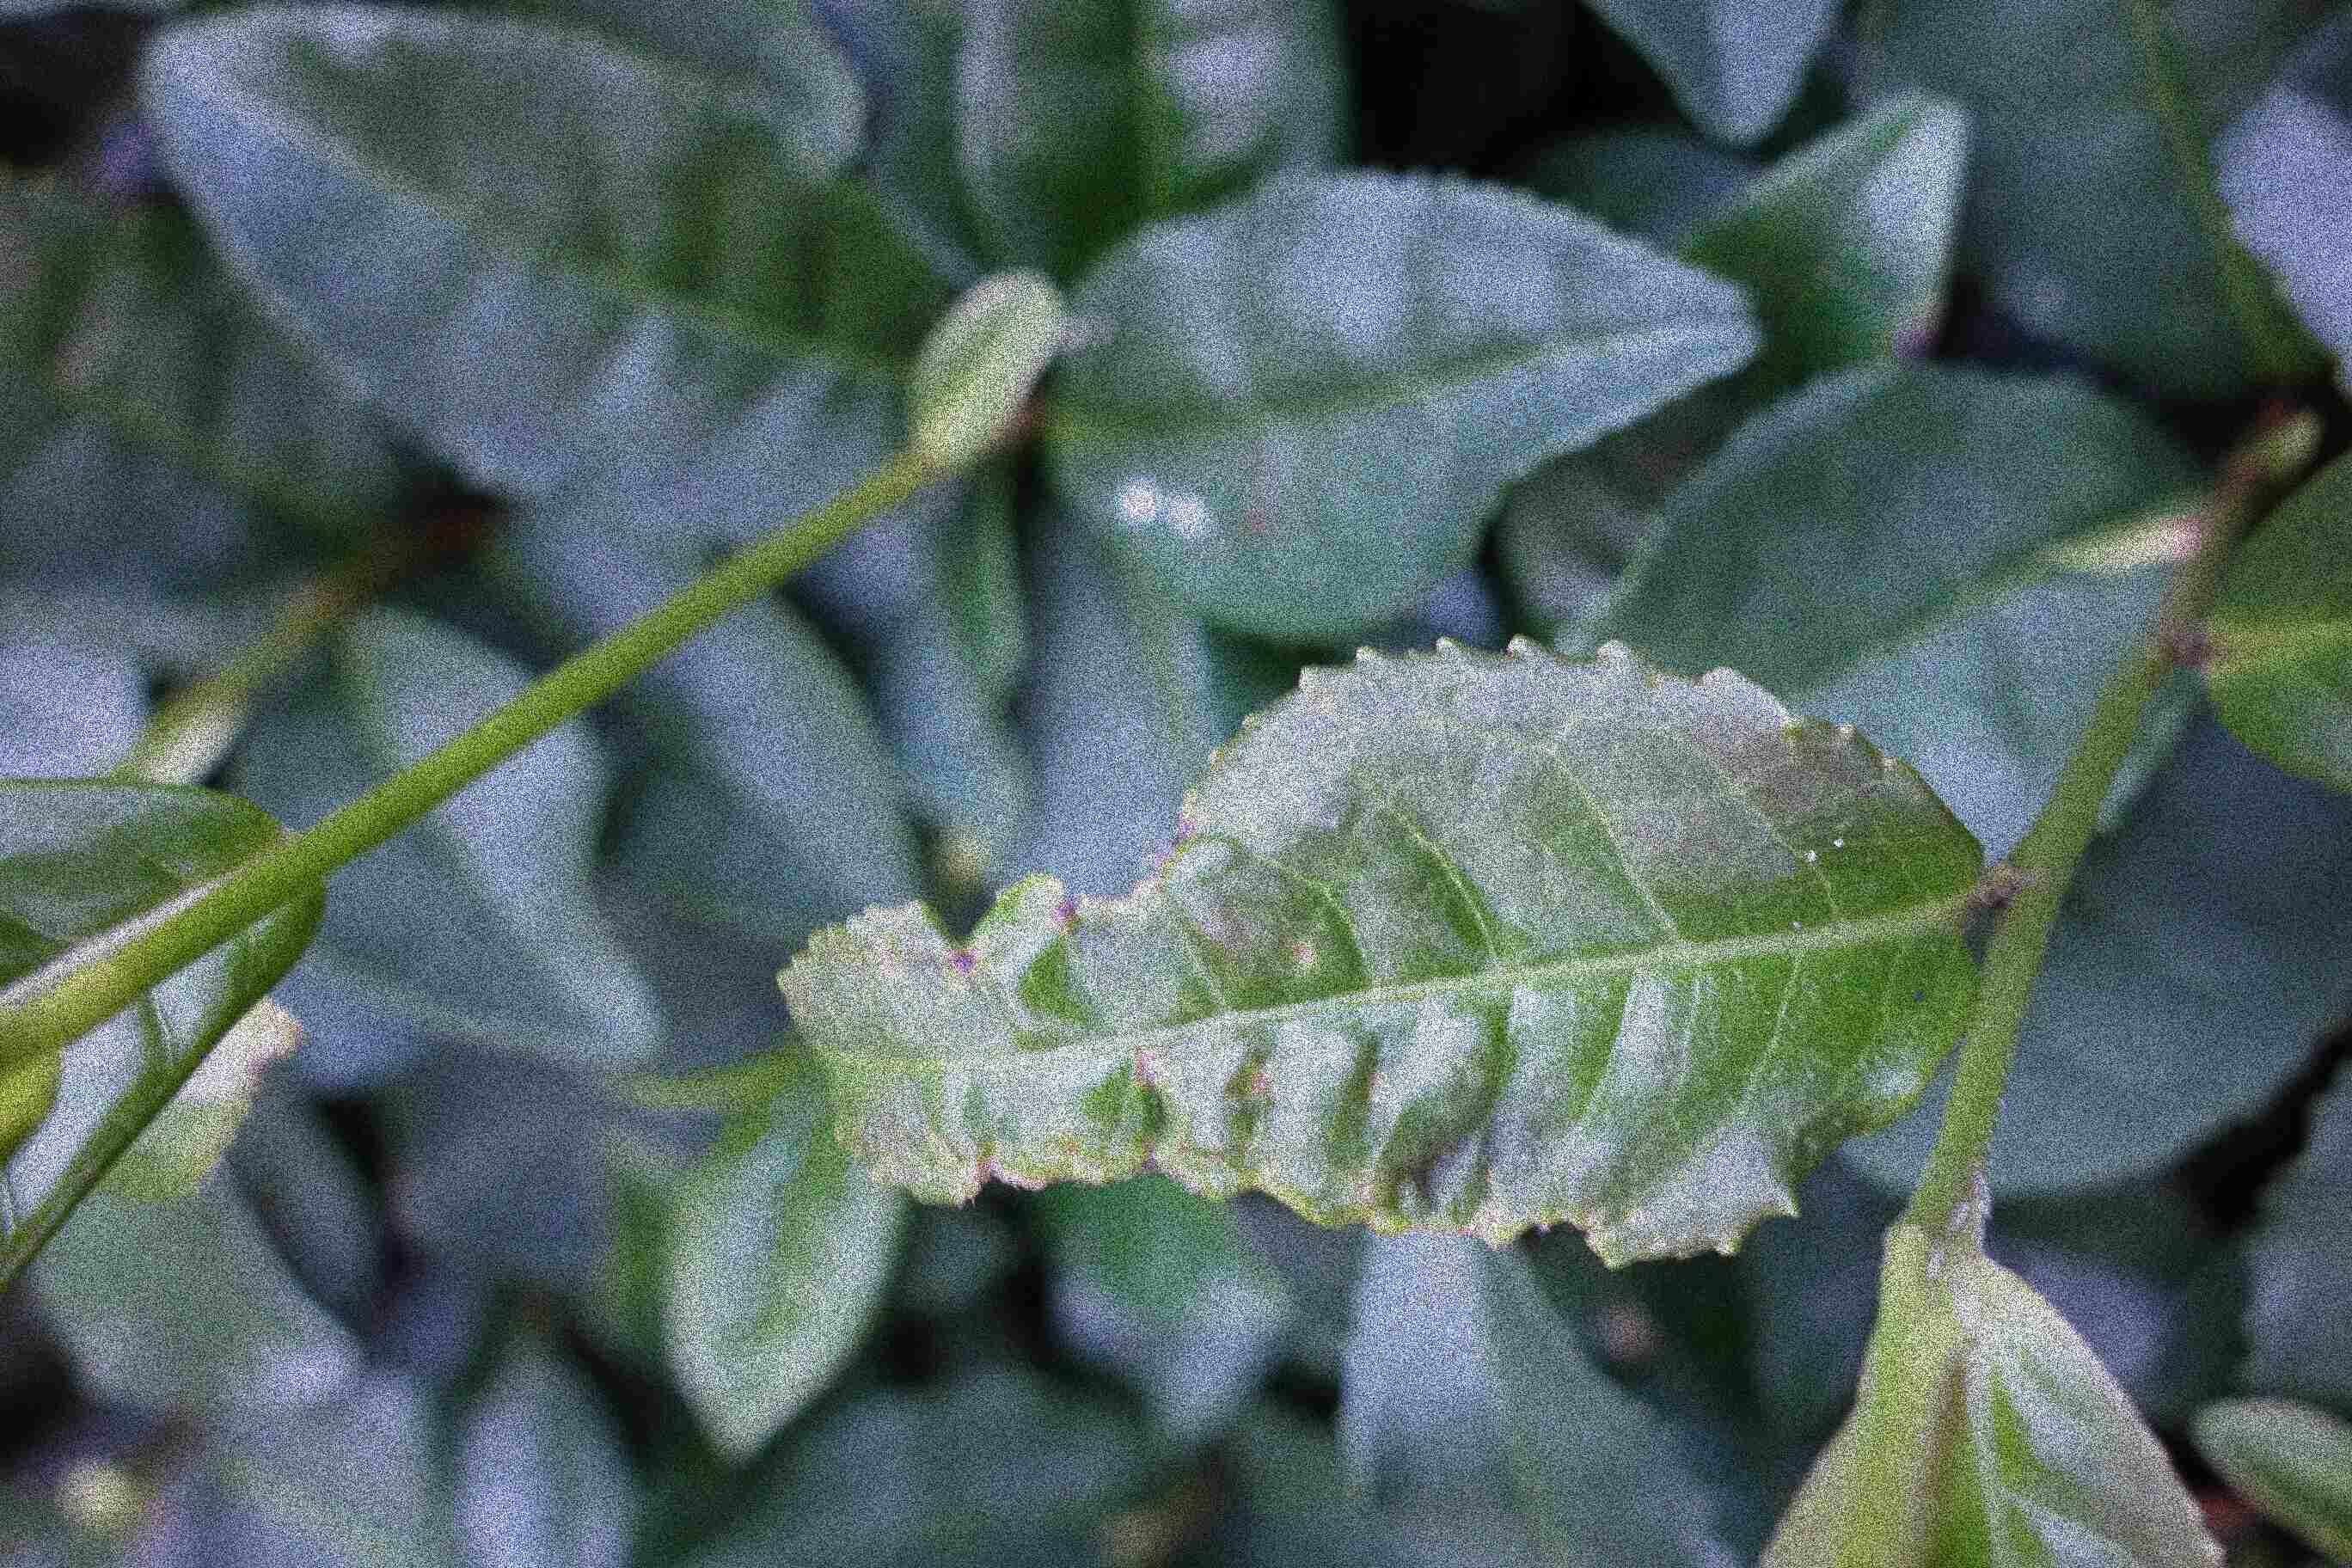chihuo_high: (772, 628, 1983, 1258)
